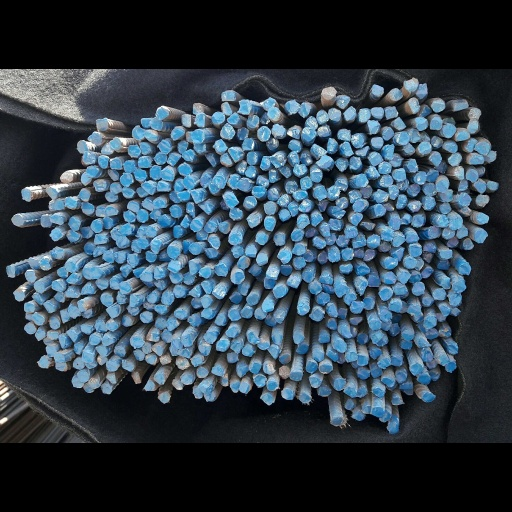dipstick: (316, 155, 333, 170), (436, 174, 449, 192), (223, 193, 238, 208), (287, 124, 302, 139), (422, 181, 437, 196), (448, 291, 461, 308), (131, 125, 145, 140), (238, 99, 252, 114), (368, 152, 383, 166), (441, 140, 458, 152), (221, 125, 235, 139), (246, 114, 260, 128), (422, 196, 436, 210), (442, 123, 456, 137), (448, 152, 462, 166), (115, 235, 130, 248), (175, 356, 190, 369), (228, 147, 241, 162), (257, 126, 270, 141), (336, 128, 351, 141), (353, 199, 368, 212), (367, 234, 380, 249), (388, 87, 403, 100), (404, 78, 419, 91), (407, 97, 419, 113), (452, 99, 468, 111), (120, 173, 133, 187), (160, 168, 174, 181), (157, 214, 171, 227), (49, 228, 63, 241), (100, 293, 113, 307), (161, 291, 174, 305), (173, 284, 186, 298), (212, 286, 226, 299), (178, 164, 192, 177), (191, 129, 204, 143), (285, 100, 298, 114), (302, 127, 315, 141), (298, 199, 312, 212), (335, 157, 348, 171), (335, 284, 349, 297), (338, 324, 351, 338), (391, 247, 404, 261), (374, 189, 388, 202), (448, 216, 462, 229), (389, 153, 402, 167), (406, 183, 420, 196), (458, 192, 471, 206), (430, 99, 444, 112), (415, 117, 428, 131), (49, 199, 64, 211), (170, 128, 185, 140), (287, 151, 299, 166), (335, 95, 350, 107), (451, 281, 466, 293), (368, 119, 380, 134), (408, 128, 420, 143), (475, 142, 490, 154), (66, 273, 82, 284), (416, 82, 427, 98), (11, 214, 24, 227), (155, 107, 168, 120), (141, 182, 154, 195), (68, 217, 81, 230), (169, 205, 182, 218), (167, 260, 180, 273), (116, 291, 129, 304), (188, 313, 201, 326), (204, 220, 217, 233), (167, 153, 180, 166), (213, 175, 226, 188), (271, 124, 284, 137), (288, 139, 301, 152), (285, 181, 298, 194), (247, 214, 260, 227), (255, 232, 268, 245), (273, 285, 286, 298), (316, 291, 329, 304), (312, 236, 325, 249), (314, 186, 327, 199), (328, 108, 341, 121), (343, 107, 356, 120), (351, 134, 364, 147), (348, 190, 361, 203), (363, 248, 376, 261), (344, 292, 357, 305), (423, 315, 436, 328), (412, 282, 425, 295), (438, 304, 451, 317), (392, 234, 405, 247), (387, 217, 400, 230), (475, 229, 488, 242), (476, 194, 489, 207), (473, 181, 486, 194), (357, 108, 370, 121), (467, 119, 480, 132), (395, 131, 408, 144), (144, 129, 158, 141), (158, 140, 170, 154), (133, 169, 147, 181), (136, 209, 148, 223), (66, 230, 80, 242), (49, 246, 63, 258), (126, 253, 138, 267), (169, 271, 183, 283), (188, 285, 202, 297), (230, 272, 244, 284), (228, 233, 242, 245), (189, 219, 203, 231), (245, 244, 257, 258), (200, 174, 212, 188), (211, 112, 225, 124), (214, 139, 226, 153), (237, 178, 251, 190), (262, 98, 276, 110), (316, 109, 328, 123), (259, 155, 271, 169), (251, 185, 265, 197), (310, 168, 322, 182), (278, 365, 290, 379), (310, 309, 324, 321), (341, 142, 353, 156), (327, 185, 339, 199), (328, 218, 342, 230), (378, 288, 392, 300), (407, 303, 421, 315), (432, 288, 446, 300), (466, 169, 478, 183), (393, 117, 407, 129), (382, 126, 394, 140), (430, 116, 442, 130), (456, 128, 470, 140), (198, 203, 213, 214), (228, 174, 239, 189), (327, 138, 338, 153), (396, 194, 407, 209), (468, 154, 484, 164), (89, 132, 102, 144), (76, 140, 88, 153), (83, 151, 95, 164), (109, 137, 121, 150), (127, 145, 140, 157), (60, 171, 73, 183), (45, 187, 57, 200), (93, 179, 106, 191), (150, 117, 162, 130), (154, 152, 167, 164), (149, 166, 161, 179), (81, 202, 94, 214), (90, 220, 102, 233), (123, 210, 136, 222), (166, 246, 179, 258), (119, 281, 131, 294), (105, 307, 118, 319), (105, 319, 118, 331), (65, 330, 77, 343), (161, 329, 173, 342), (215, 263, 227, 276), (208, 236, 220, 249), (183, 176, 195, 189), (229, 208, 242, 220), (244, 196, 257, 208), (220, 153, 232, 166), (306, 116, 318, 129), (299, 177, 312, 189), (276, 194, 289, 206), (263, 202, 276, 214), (249, 264, 262, 276), (254, 307, 267, 319), (247, 331, 259, 344), (254, 374, 266, 387), (281, 388, 294, 400), (279, 250, 291, 263), (310, 213, 323, 225), (350, 213, 362, 226), (356, 174, 368, 187), (349, 156, 361, 169), (327, 249, 340, 261), (350, 301, 363, 313), (325, 350, 338, 362), (333, 377, 345, 390), (334, 339, 346, 352), (371, 331, 384, 343), (389, 301, 402, 313), (397, 271, 410, 283), (409, 363, 422, 375), (425, 327, 438, 339), (458, 262, 471, 274), (408, 244, 421, 256), (381, 228, 394, 240), (367, 165, 379, 178), (411, 215, 424, 227), (428, 226, 441, 238), (393, 168, 405, 181), (378, 162, 391, 174), (414, 171, 426, 184), (441, 188, 453, 201), (423, 241, 436, 253), (468, 108, 481, 120), (418, 142, 431, 154), (429, 152, 441, 165), (137, 157, 151, 168), (225, 327, 239, 338), (188, 260, 199, 274), (194, 113, 205, 127), (299, 103, 310, 117), (317, 125, 331, 136), (293, 165, 307, 176), (293, 190, 307, 201), (264, 217, 275, 231), (287, 202, 298, 216), (291, 244, 305, 255), (322, 87, 336, 98), (344, 227, 358, 238), (338, 263, 352, 274), (393, 284, 407, 295), (370, 107, 384, 118), (358, 280, 368, 295), (383, 144, 393, 159), (96, 119, 108, 131), (123, 160, 135, 172), (107, 169, 119, 181), (40, 215, 52, 227), (64, 197, 76, 209), (79, 189, 91, 201), (109, 182, 121, 194), (139, 142, 151, 154), (119, 223, 131, 235), (102, 251, 114, 263), (28, 257, 40, 269), (51, 280, 63, 292), (89, 267, 101, 279), (68, 306, 80, 318), (154, 266, 166, 278), (140, 311, 152, 323), (37, 356, 49, 368), (73, 357, 85, 369), (77, 370, 89, 382), (71, 375, 83, 387), (82, 351, 94, 363), (158, 391, 170, 403), (166, 319, 178, 331), (216, 339, 228, 351), (214, 314, 226, 326), (236, 365, 248, 377), (240, 306, 252, 318), (183, 272, 195, 284), (196, 228, 208, 240), (218, 222, 230, 234), (237, 257, 249, 269), (227, 112, 239, 124), (245, 166, 257, 178), (242, 138, 254, 150), (300, 153, 312, 165), (291, 229, 303, 241), (261, 300, 273, 312), (305, 361, 317, 373), (271, 333, 283, 345), (292, 332, 304, 344), (318, 331, 330, 343), (301, 269, 313, 281), (297, 216, 309, 228), (335, 179, 347, 191), (336, 235, 348, 247), (369, 319, 381, 331), (404, 256, 416, 268), (436, 354, 448, 366), (380, 174, 392, 186), (100, 143, 113, 154), (97, 155, 108, 168), (157, 180, 170, 191), (122, 186, 135, 197), (142, 198, 153, 211), (150, 240, 161, 253), (39, 257, 50, 270), (94, 346, 107, 357), (105, 360, 118, 371), (130, 336, 143, 347), (203, 332, 216, 343), (202, 308, 215, 319), (201, 281, 212, 294), (229, 292, 242, 303), (199, 267, 212, 278), (189, 243, 202, 254), (205, 247, 218, 258), (173, 178, 184, 191), (177, 141, 188, 154), (237, 127, 248, 140), (247, 152, 258, 165), (267, 107, 280, 118), (256, 253, 267, 266), (261, 394, 274, 405), (298, 392, 311, 403), (267, 345, 278, 358), (293, 257, 306, 268), (309, 282, 322, 293), (335, 197, 348, 208), (332, 207, 345, 218), (342, 247, 353, 260), (327, 304, 338, 317), (367, 276, 380, 287), (371, 406, 384, 417), (357, 368, 370, 379), (369, 348, 382, 359), (399, 339, 412, 350), (384, 271, 395, 284), (385, 257, 398, 268), (438, 326, 451, 337), (408, 200, 421, 211), (407, 159, 418, 172), (476, 212, 489, 223), (442, 228, 455, 239), (371, 84, 384, 95), (81, 171, 91, 185), (49, 215, 63, 225), (152, 198, 166, 208), (54, 361, 68, 371), (198, 384, 212, 394), (193, 143, 207, 153), (221, 101, 231, 115), (265, 270, 279, 280), (404, 232, 418, 242), (389, 185, 399, 199), (186, 202, 195, 217), (221, 91, 236, 100), (109, 158, 121, 169), (86, 166, 98, 177), (102, 217, 113, 229), (149, 209, 161, 220), (145, 251, 157, 262), (25, 270, 36, 282), (14, 289, 25, 301), (96, 278, 108, 289), (43, 302, 55, 313), (32, 314, 44, 325), (24, 323, 36, 334), (49, 317, 60, 329), (146, 292, 158, 303), (121, 315, 133, 326), (45, 345, 57, 356), (89, 334, 101, 345), (122, 360, 134, 371), (145, 354, 157, 365), (196, 366, 208, 377), (199, 344, 211, 355), (226, 352, 238, 363), (230, 341, 242, 352), (200, 296, 212, 307), (190, 298, 202, 309), (228, 309, 240, 320), (231, 246, 243, 257), (182, 150, 194, 161), (267, 188, 278, 200), (279, 209, 290, 221), (273, 234, 285, 245), (242, 345, 253, 357), (290, 370, 302, 381), (278, 353, 290, 364), (265, 314, 276, 326), (273, 312, 284, 324), (306, 227, 318, 238), (362, 298, 374, 309), (344, 398, 356, 409), (387, 421, 398, 433), (344, 386, 356, 397), (390, 355, 402, 366), (396, 371, 407, 383), (345, 351, 357, 362), (402, 329, 414, 340), (379, 310, 391, 321), (421, 350, 433, 361), (421, 267, 433, 278), (440, 276, 451, 288), (438, 259, 450, 270), (373, 204, 385, 215), (371, 137, 383, 148), (462, 238, 474, 249), (403, 143, 414, 155), (431, 135, 442, 147), (21, 189, 31, 202), (105, 191, 118, 201), (94, 234, 107, 244), (84, 242, 94, 255), (59, 310, 69, 323), (129, 294, 139, 307), (94, 322, 107, 332), (80, 324, 93, 334), (101, 336, 114, 346), (82, 267, 92, 280), (192, 385, 202, 398), (211, 366, 224, 376), (177, 191, 190, 201), (190, 190, 200, 203), (181, 114, 191, 127), (317, 251, 327, 264), (319, 275, 332, 285), (378, 357, 391, 367), (389, 323, 399, 336), (422, 392, 435, 402), (418, 337, 431, 347), (446, 237, 459, 247), (454, 166, 464, 179), (104, 207, 118, 216), (81, 285, 95, 294), (154, 305, 168, 314), (381, 377, 395, 386), (137, 238, 148, 249), (65, 261, 76, 272), (114, 346, 125, 357), (88, 377, 99, 388), (182, 335, 193, 346), (239, 382, 250, 393), (264, 278, 275, 289), (250, 362, 261, 373), (263, 363, 274, 374), (309, 377, 320, 388), (312, 350, 323, 361), (298, 304, 309, 315), (287, 277, 298, 288), (281, 265, 292, 276), (324, 234, 335, 245), (357, 333, 368, 344), (437, 215, 448, 226), (136, 187, 148, 197), (127, 202, 139, 212), (146, 225, 156, 237), (34, 281, 44, 293), (133, 350, 145, 360), (127, 305, 139, 315), (171, 339, 183, 349), (247, 294, 259, 304), (238, 283, 248, 295), (319, 387, 331, 397), (296, 344, 308, 354), (357, 265, 369, 275), (353, 411, 365, 421), (372, 387, 384, 397), (370, 367, 382, 377), (418, 374, 430, 384), (445, 361, 457, 371), (139, 273, 152, 282), (174, 310, 187, 319), (319, 364, 332, 373), (330, 417, 343, 426), (95, 206, 105, 217), (115, 252, 125, 263), (57, 268, 68, 278), (109, 278, 119, 289), (54, 352, 65, 362), (101, 384, 112, 394), (84, 382, 94, 393), (144, 380, 154, 391), (154, 373, 164, 384), (152, 345, 162, 356), (73, 343, 83, 354), (181, 374, 192, 384), (230, 381, 240, 392), (192, 103, 203, 113), (266, 380, 277, 390), (337, 308, 347, 319), (380, 410, 390, 421), (357, 355, 368, 365), (401, 213, 411, 224), (440, 202, 450, 213), (6, 265, 15, 277), (159, 355, 171, 364), (191, 357, 203, 366), (422, 297, 434, 306), (400, 382, 413, 390), (439, 250, 452, 258), (141, 118, 151, 128), (77, 301, 87, 311), (106, 374, 116, 384), (327, 319, 337, 329), (357, 387, 367, 397), (447, 344, 457, 354), (172, 380, 183, 389), (487, 181, 498, 190), (173, 226, 181, 238), (391, 397, 403, 405), (350, 317, 362, 325), (24, 303, 34, 312), (35, 331, 45, 340), (258, 342, 269, 350), (64, 290, 78, 296), (362, 406, 370, 413)
